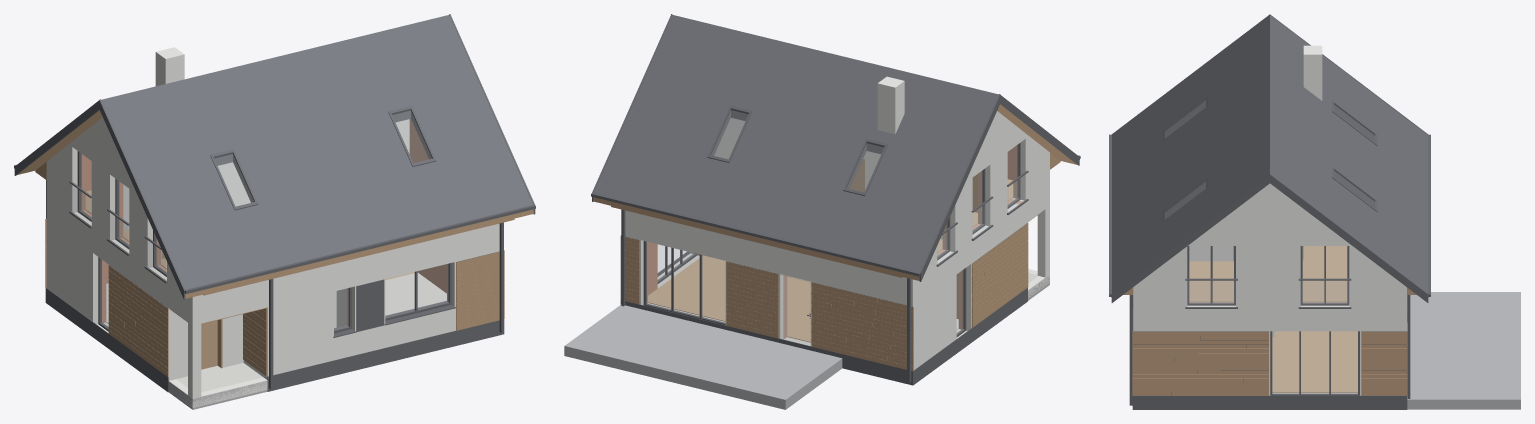
File: dom_w_gnieznikach_unreal.glb
3 renders of one model, left to right at view 1: azimuth 30°, elevation 25°; view 2: azimuth 150°, elevation 25°; view 3: azimuth 270°, elevation 25°, orthographic. The views are drawn at different scales.
Parts seen in each view (by area): view 1: Dach_rp_south, SM_WallMerged_parter_exterior_mat_wall_plaster, SM_WallMerged_poddasze_gable_wall_mat_wall_plaster, Detal_facade_wood_west_porch, Detal_plinth_band_south, Detal_facade_wood_south_kitchen, win_p_kuchnia_south_glass, Detal_porch_lintel_front, Obrobka_Dachu_rp_south, Detal_plinth_band_west, Podbitka_Skos_rp_south, Detal_gutter_south_eave (+34 smaller); view 2: Dach_rp_north, Taras_terrace_north_garden, SM_WallMerged_parter_exterior_mat_wall_plaster, Detal_facade_wood_north_left, SM_WallMerged_poddasze_gable_wall_mat_wall_plaster, Posadzka_parter_salon_jadalnia, win_p_salon_north_glass, Detal_facade_wood_west_porch, Detal_facade_wood_north_center, Detal_plinth_band_north, Obrobka_Dachu_rp_north, Detal_plinth_band_west (+29 smaller); view 3: Dach_rp_south, Dach_rp_north, SM_WallMerged_poddasze_gable_wall_mat_wall_plaster, Taras_terrace_north_garden, Detal_facade_wood_east_kitchen, SM_WallMerged_parter_exterior_mat_wall_plaster, Posadzka_parter_salon_jadalnia, win_p_jadalnia_east_glass, Detal_plinth_band_east, Detal_facade_wood_east_north_corner, Posadzka_poddasze_pokoj_ne, win_a_east_ne_glass (+20 smaller).
Boxes of the visible parts, x1=… form: Dach_rp_south: x1=101, y1=15, x2=533, y2=289; SM_WallMerged_parter_exterior_mat_wall_plaster: x1=46, y1=195, x2=499, y2=380; SM_WallMerged_poddasze_gable_wall_mat_wall_plaster: x1=47, y1=117, x2=192, y2=300; Detal_facade_wood_west_porch: x1=108, y1=265, x2=168, y2=377; Detal_plinth_band_south: x1=267, y1=319, x2=504, y2=391; Detal_facade_wood_south_kitchen: x1=456, y1=250, x2=504, y2=330; win_p_kuchnia_south_glass: x1=386, y1=264, x2=448, y2=317; Detal_porch_lintel_front: x1=186, y1=283, x2=267, y2=325; Obrobka_Dachu_rp_south: x1=99, y1=14, x2=535, y2=299; Detal_plinth_band_west: x1=46, y1=288, x2=168, y2=392; Podbitka_Skos_rp_south: x1=185, y1=209, x2=533, y2=298; Detal_gutter_south_eave: x1=185, y1=205, x2=535, y2=293; Dach_rp_north: x1=593, y1=15, x2=998, y2=272; Taras_terrace_north_garden: x1=564, y1=304, x2=842, y2=409; SM_WallMerged_parter_exterior_mat_wall_plaster: x1=625, y1=201, x2=1027, y2=369; Detal_facade_wood_north_left: x1=811, y1=282, x2=913, y2=371; SM_WallMerged_poddasze_gable_wall_mat_wall_plaster: x1=912, y1=111, x2=1049, y2=282; Posadzka_parter_salon_jadalnia: x1=648, y1=255, x2=810, y2=342; win_p_salon_north_glass: x1=646, y1=242, x2=724, y2=322; Detal_facade_wood_west_porch: x1=972, y1=223, x2=1028, y2=327; Detal_facade_wood_north_center: x1=726, y1=261, x2=778, y2=338; Detal_plinth_band_north: x1=620, y1=300, x2=913, y2=385; Obrobka_Dachu_rp_north: x1=592, y1=14, x2=1000, y2=281; Detal_plinth_band_west: x1=913, y1=287, x2=1027, y2=384; Dach_rp_south: x1=1112, y1=15, x2=1269, y2=293; Dach_rp_north: x1=1270, y1=15, x2=1427, y2=293; SM_WallMerged_poddasze_gable_wall_mat_wall_plaster: x1=1133, y1=183, x2=1406, y2=308; Taras_terrace_north_garden: x1=1407, y1=292, x2=1520, y2=409; Detal_facade_wood_east_kitchen: x1=1133, y1=331, x2=1268, y2=395; SM_WallMerged_parter_exterior_mat_wall_plaster: x1=1133, y1=308, x2=1406, y2=395; Posadzka_parter_salon_jadalnia: x1=1272, y1=331, x2=1357, y2=392; win_p_jadalnia_east_glass: x1=1273, y1=332, x2=1357, y2=393; Detal_plinth_band_east: x1=1133, y1=395, x2=1406, y2=409; Detal_facade_wood_east_north_corner: x1=1361, y1=331, x2=1406, y2=395; Posadzka_poddasze_pokoj_ne: x1=1302, y1=246, x2=1349, y2=301; win_a_east_ne_glass: x1=1303, y1=246, x2=1346, y2=302.
Size of the model in its own units: 11.64 by 8.51 by 12.64.
